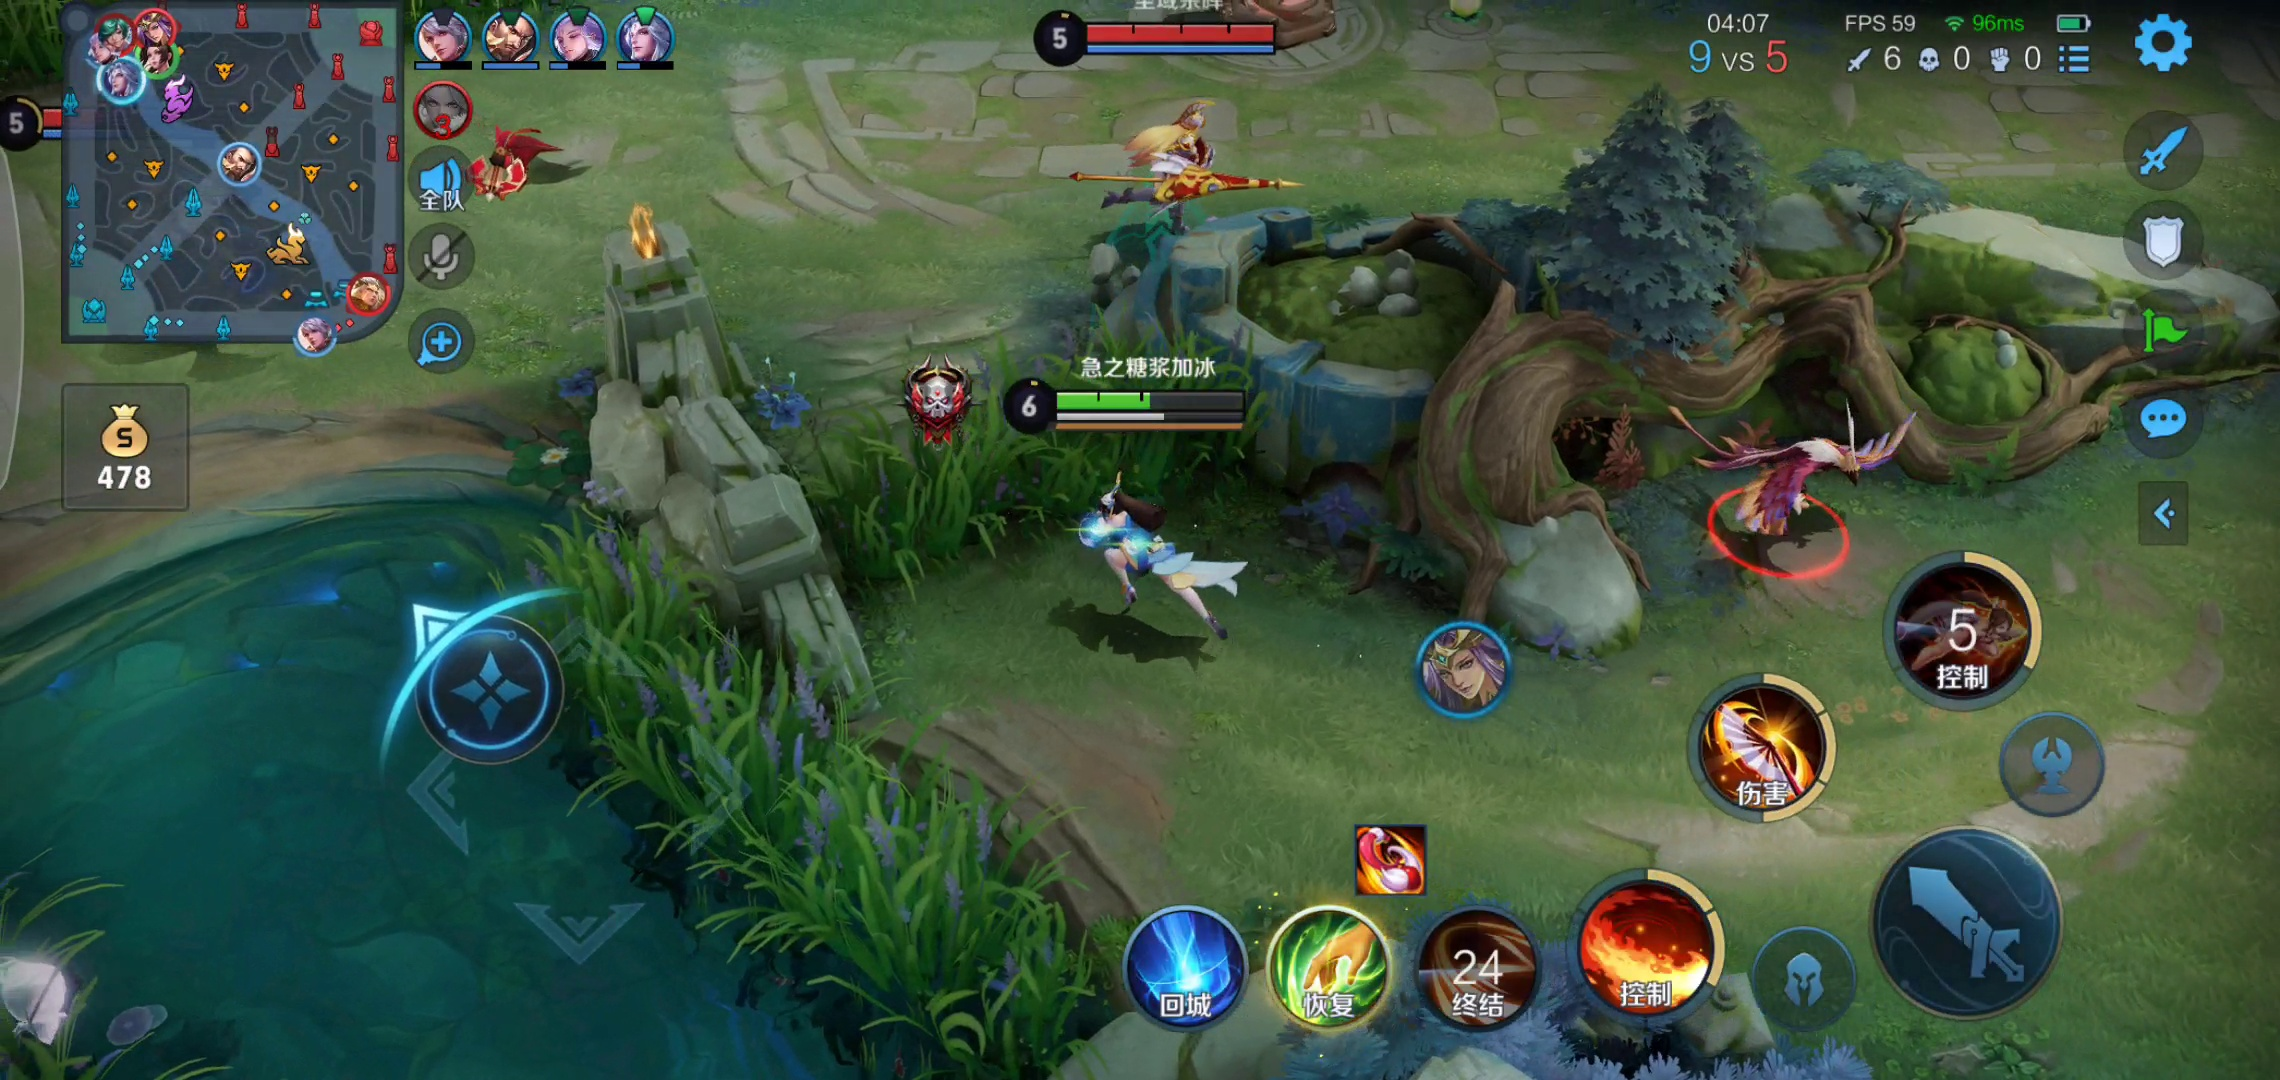grass: (507, 555, 1091, 1047), (813, 343, 1278, 536)
hero: (1051, 96, 1278, 240), (1077, 497, 1258, 653)
soldier: (473, 121, 570, 215)
wild_monster: (1658, 397, 1930, 561)
